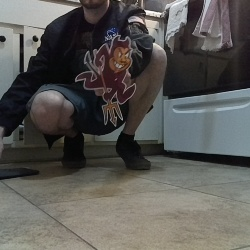sparky: (74, 34, 137, 128)
